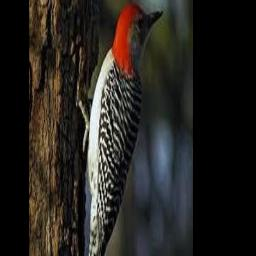Woodpecker: (80, 1, 163, 256)
